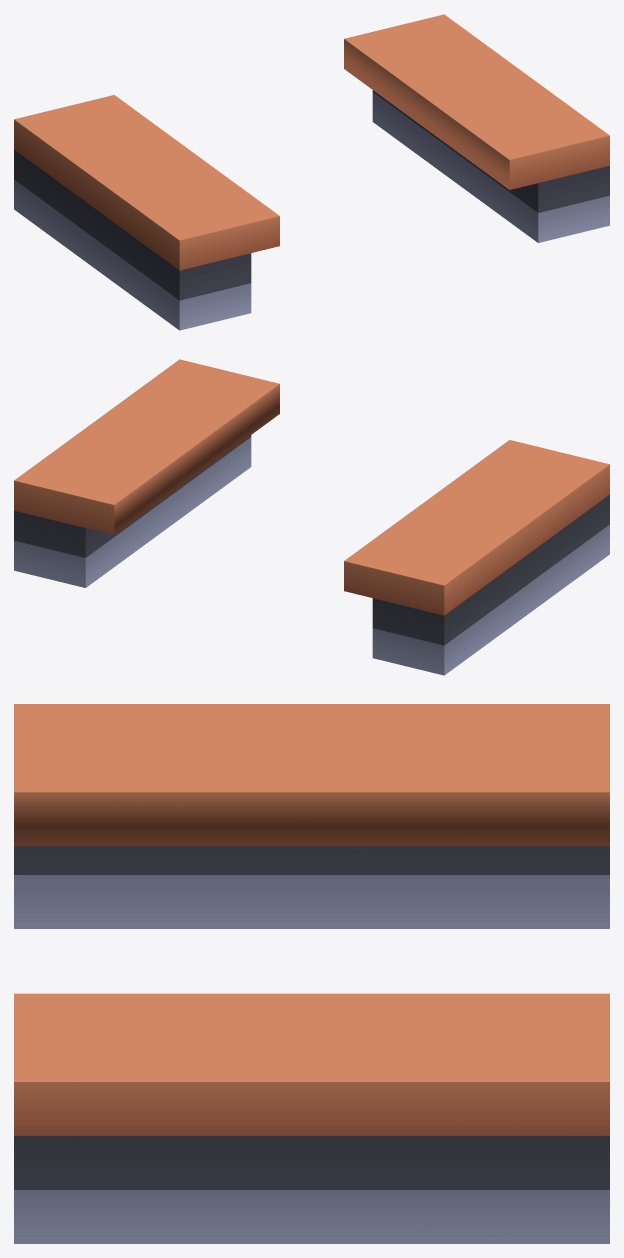
File: station.glb
3 renders of one model, top to bottom at view 1: azimuth 30°, elevation 25°; view 2: azimuth 150°, elevation 25°; view 3: azimuth 270°, elevation 25°, orthographic. The views are drawn at different scales.
Visible parts, largest first — view 1: station; view 2: station; view 3: station.
Part boxes in pixels (left/top/right/bottom): station: left=14, top=14, right=609, bottom=330; station: left=14, top=359, right=609, bottom=675; station: left=14, top=704, right=609, bottom=1243.
Bounding box in the file's own units: 1.5 × 0.2999 × 1.
Materials: 1 (1 with a texture image).
